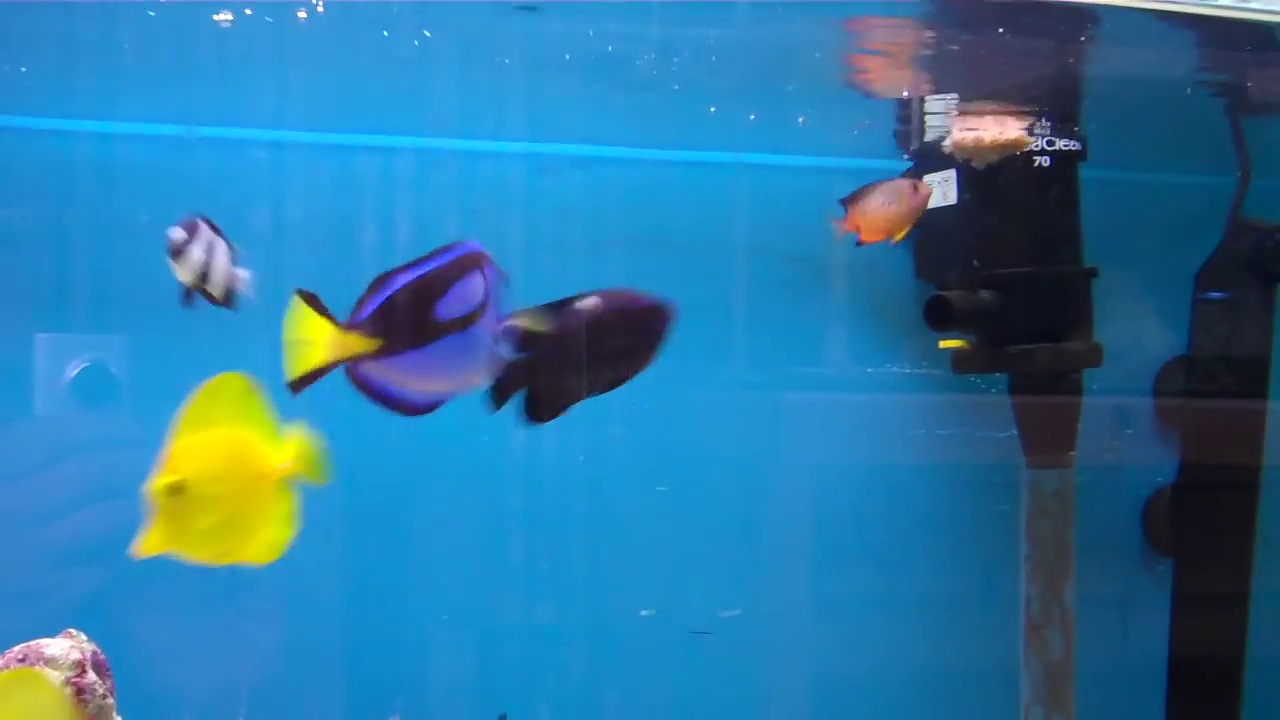blue tang surgeonfish: (267, 223, 522, 426)
saddle butterfly fish: (113, 362, 335, 582)
